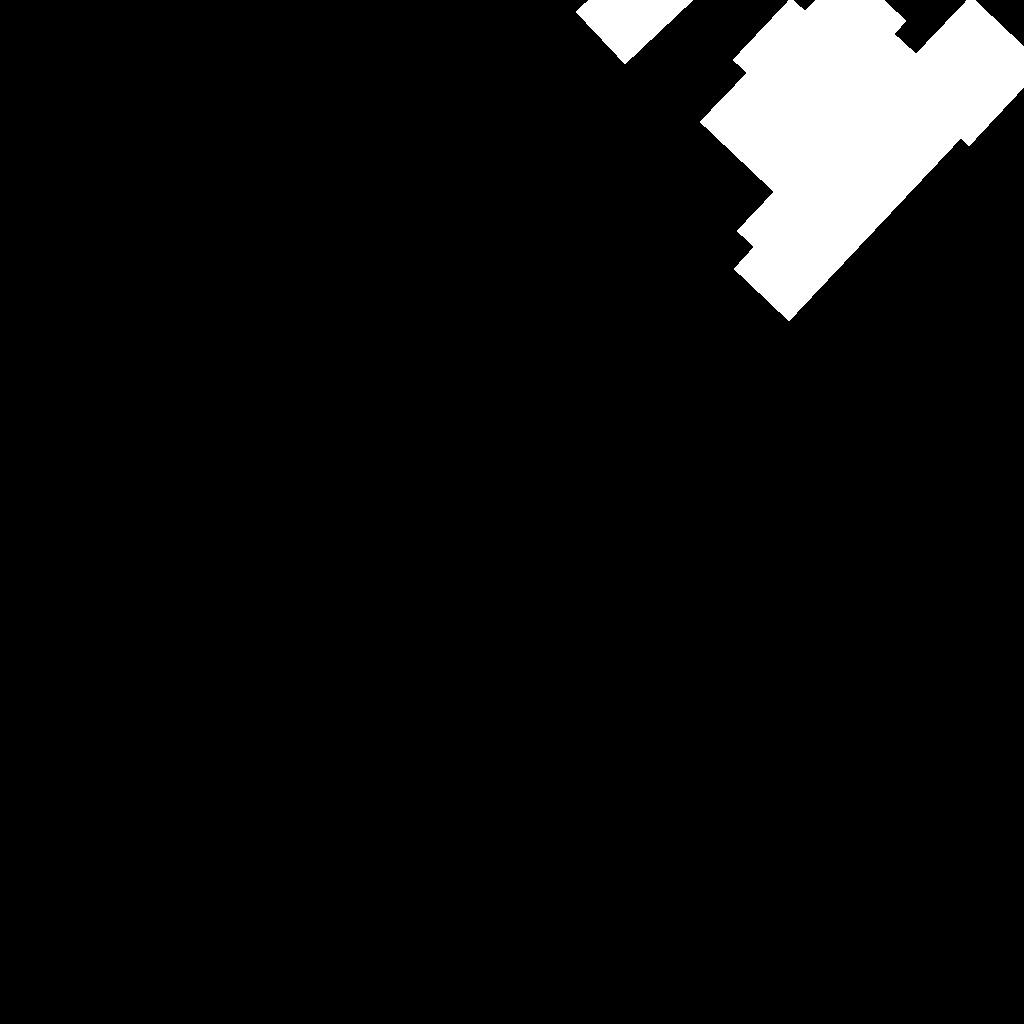building: (700, 0, 1024, 322), (576, 0, 694, 65)
